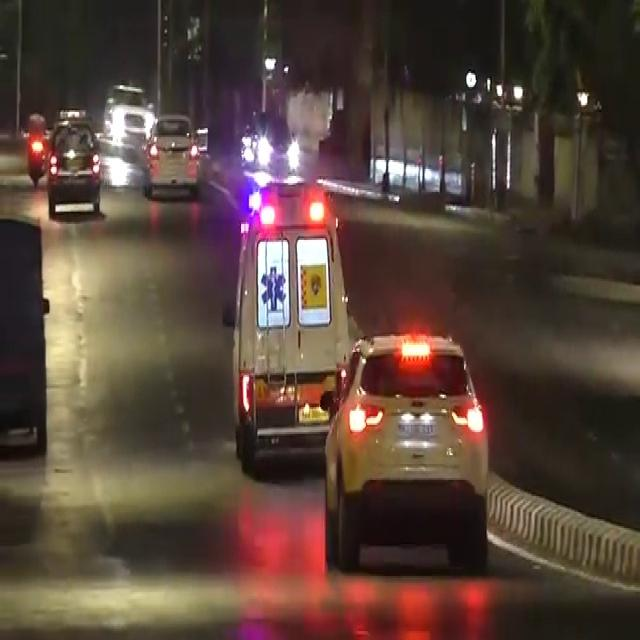ambulance: (234, 200, 352, 451)
